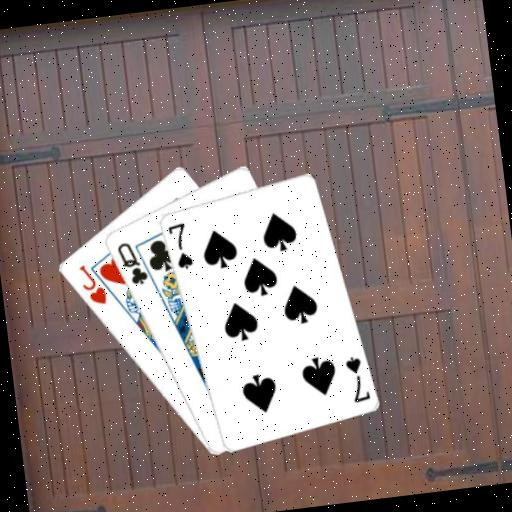7S: (164, 219, 195, 273), (341, 351, 372, 405)
JH: (75, 259, 109, 308)
QC: (112, 237, 150, 289)
